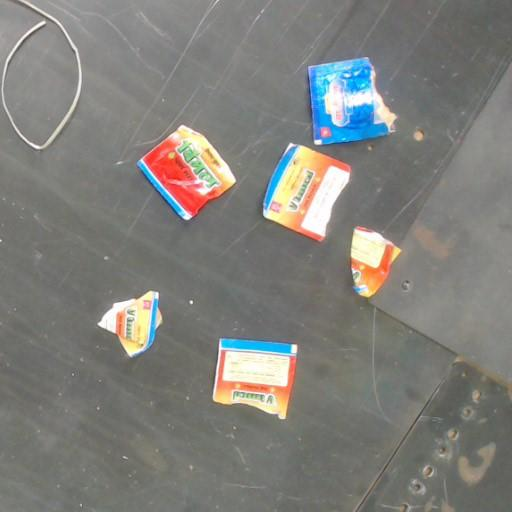conveyor belt: (0, 0, 511, 511)
packet: (138, 126, 235, 220), (264, 143, 350, 240), (308, 58, 395, 145), (213, 339, 297, 418), (99, 291, 160, 355), (351, 227, 399, 297)
thread: (0, 0, 81, 149)
